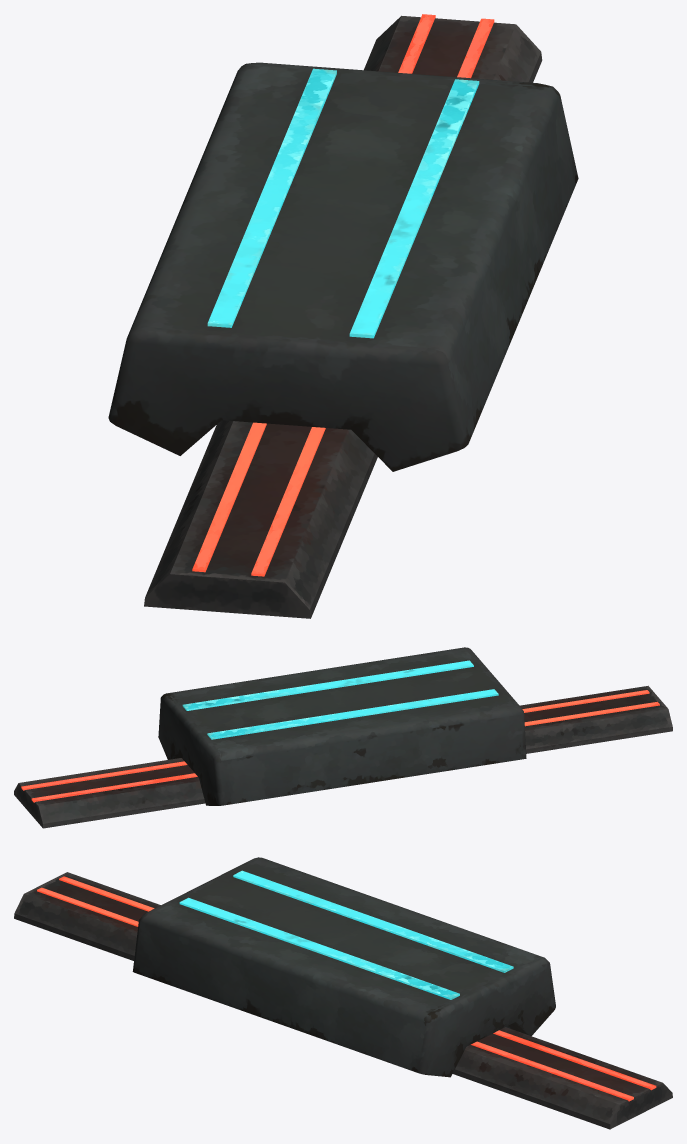
The model's file is Body1.gltf.
3 views of the same model, one above another, from view 1: azimuth 30°, elevation 25°; view 2: azimuth 150°, elevation 25°; view 3: azimuth 270°, elevation 25° (orthographic). The views are drawn at different scales.
Parts seen in each view (by area): view 1: MobilePlatform; view 2: MobilePlatform; view 3: MobilePlatform.
Boxes of the visible parts, x1=… form: MobilePlatform: x1=108, y1=14, x2=578, y2=618; MobilePlatform: x1=14, y1=647, x2=672, y2=828; MobilePlatform: x1=14, y1=857, x2=672, y2=1129.
Size of the model in its own units: 2.06 by 0.2959 by 2.37.
Materials: 1 (1 with a texture image).
